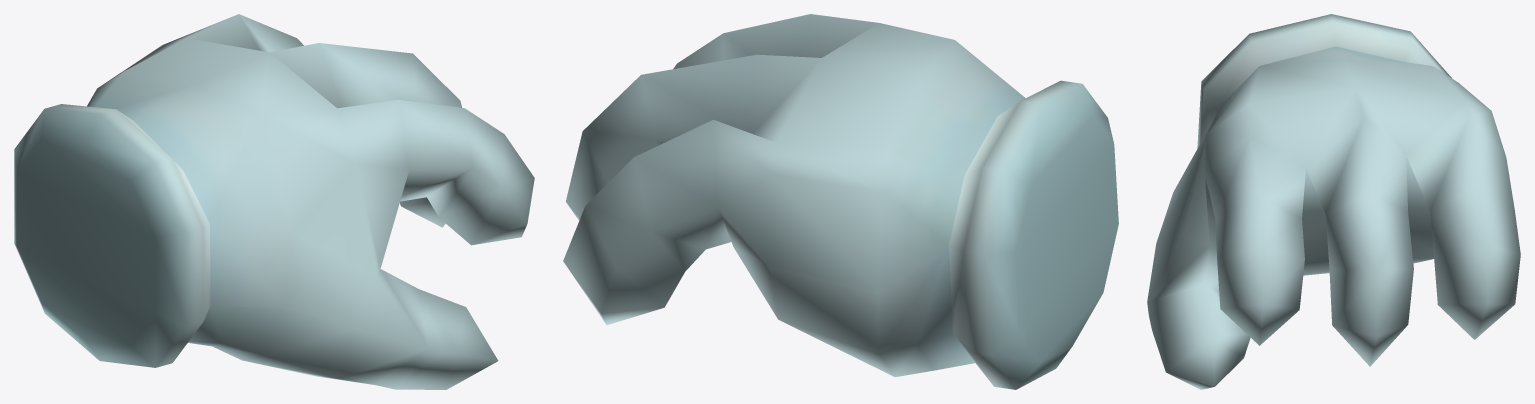
Rendered from HManoI.obj.
3 renders of one model, left to right at view 1: azimuth 30°, elevation 25°; view 2: azimuth 150°, elevation 25°; view 3: azimuth 270°, elevation 25°, orthographic. The views are drawn at different scales.
Parts seen in each view (by area): view 1: L_hand.001; view 2: L_hand.001; view 3: L_hand.001.
Boxes of the visible parts, x1,y1,x2,y2 form: L_hand.001: (14, 14, 534, 389); L_hand.001: (563, 14, 1118, 389); L_hand.001: (1147, 14, 1520, 389).
Size of the model in its own units: 0.366 by 0.2386 by 0.3071.
Materials: 1 (1 with a texture image).
